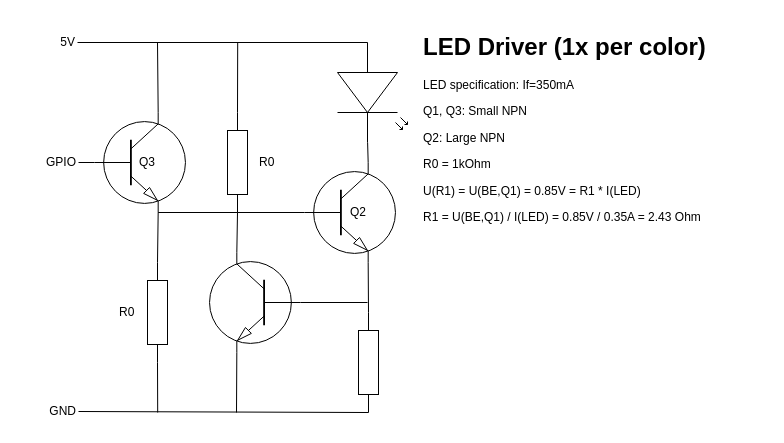
The diagram is 784 pixels wide and 443 high, and some of its shapes have lost their labels. The shapes that lost their labels are listed below. From the top down, each one's box as (x1, y1, x2, y2) in pixels, then its label:
(206, 252, 302, 352): Q1
(358, 312, 378, 412): R1
